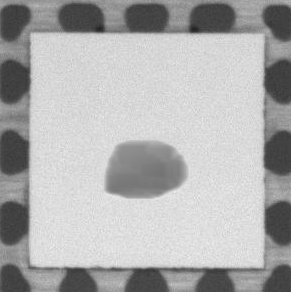DIE_INK: (99, 139, 191, 201)
